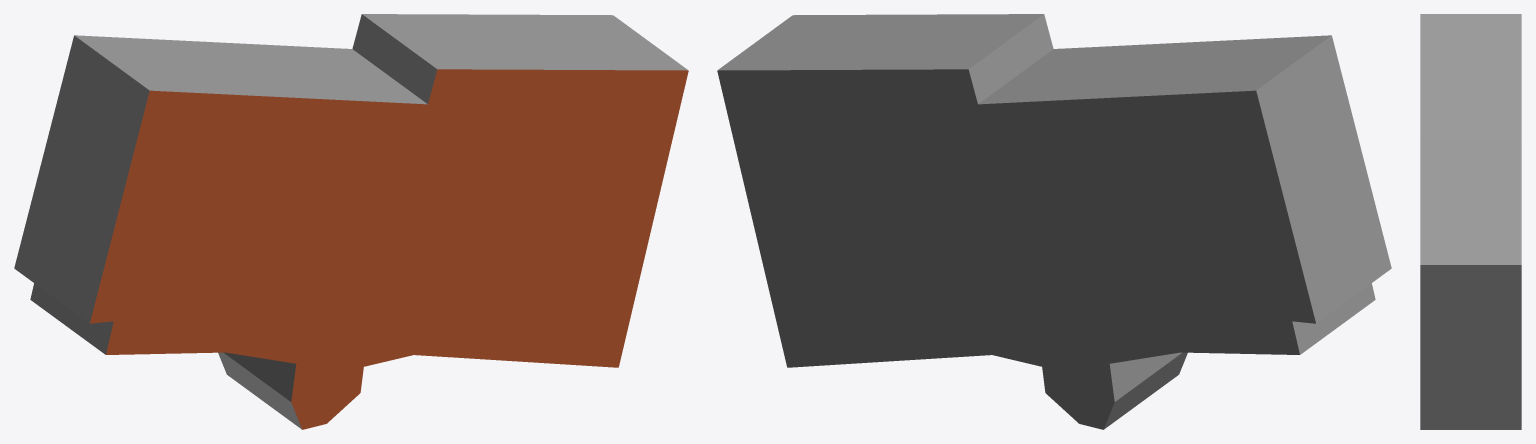
The model's file is construction_1246_assumed_A_Casa_h6m.obj.
3 views of the same model, side by side, from view 1: azimuth 30°, elevation 25°; view 2: azimuth 150°, elevation 25°; view 3: azimuth 270°, elevation 25° (orthographic). The views are drawn at different scales.
Parts seen in each view (by area): view 1: construction_1246_assumed_A_Casa; view 2: construction_1246_assumed_A_Casa; view 3: construction_1246_assumed_A_Casa.
Part boxes in pixels (box(x1,y1,x2,y2)): construction_1246_assumed_A_Casa: box(14, 14, 688, 429); construction_1246_assumed_A_Casa: box(717, 14, 1391, 429); construction_1246_assumed_A_Casa: box(1420, 14, 1521, 429).
Size of the model in its own units: 27.45 by 17.15 by 6.
